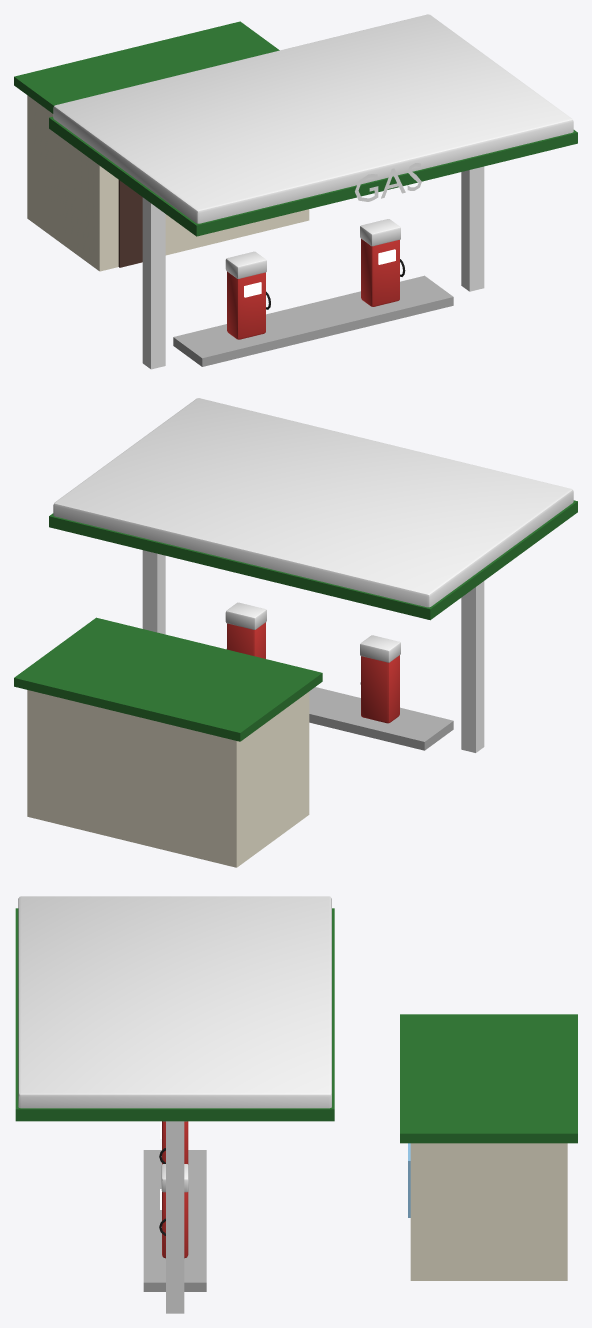
Rendered from roadevents_gas_station.glb.
3 views of the same model, one above another, from view 1: azimuth 30°, elevation 25°; view 2: azimuth 150°, elevation 25°; view 3: azimuth 270°, elevation 25° (orthographic). The views are drawn at different scales.
Parts seen in each view (by area): view 1: GasStation; view 2: GasStation; view 3: GasStation.
Boxes of the visible parts, x1=… form: GasStation: x1=14, y1=14, x2=577, y2=369; GasStation: x1=14, y1=398, x2=577, y2=867; GasStation: x1=15, y1=896, x2=577, y2=1313.
Size of the model in its own units: 9.1 by 4.88 by 10.78.
